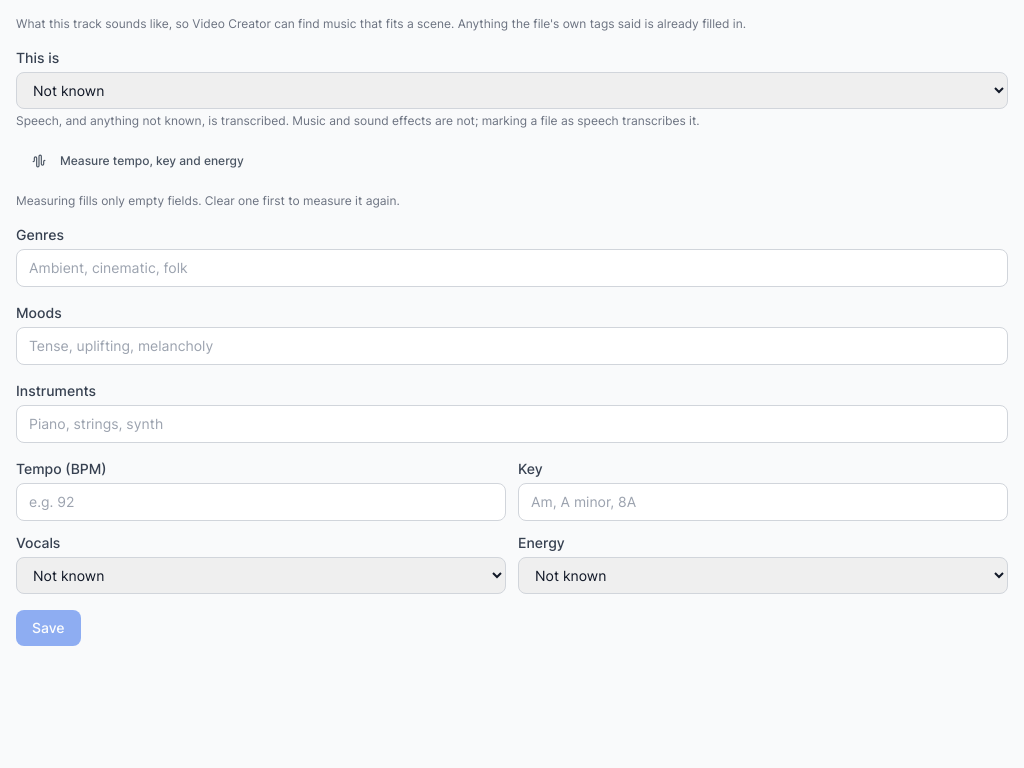
Test: MusicPanel › will not save a tempo that is not one
Type "2019" into the field labelled "Tempo (BPM)".
click(261, 502); type("2019")  # box [16,483,506,521]
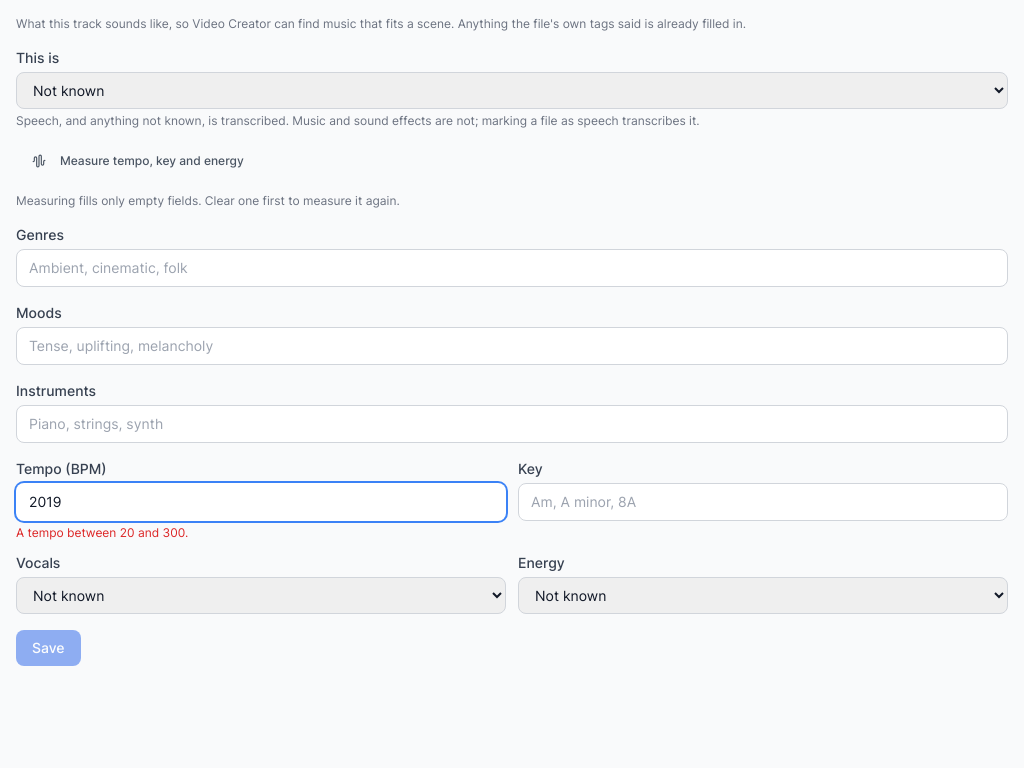
Check: the button "Save" is disabled, box [16,630,81,666]
Check: the text "A tempo between 20 and 300." is shown, box [16,525,188,540]
